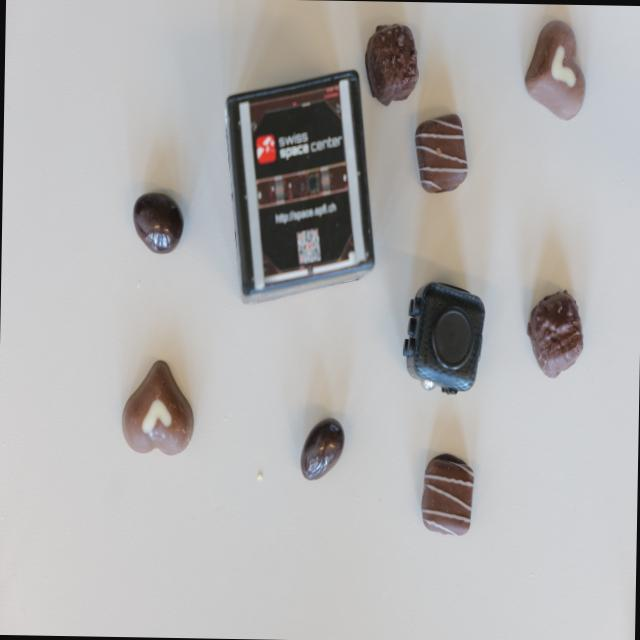Jelly_Black: (133, 192, 184, 254), (300, 419, 345, 483)
Passion_au_lait: (122, 358, 194, 456), (524, 20, 585, 121)
Stracciatella: (414, 111, 467, 195), (422, 455, 473, 536)
Tentation_noir: (529, 290, 584, 380), (365, 22, 419, 104)
